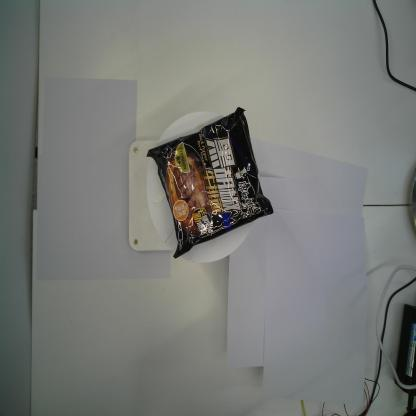Instant Noodles: (146, 106, 274, 260)
